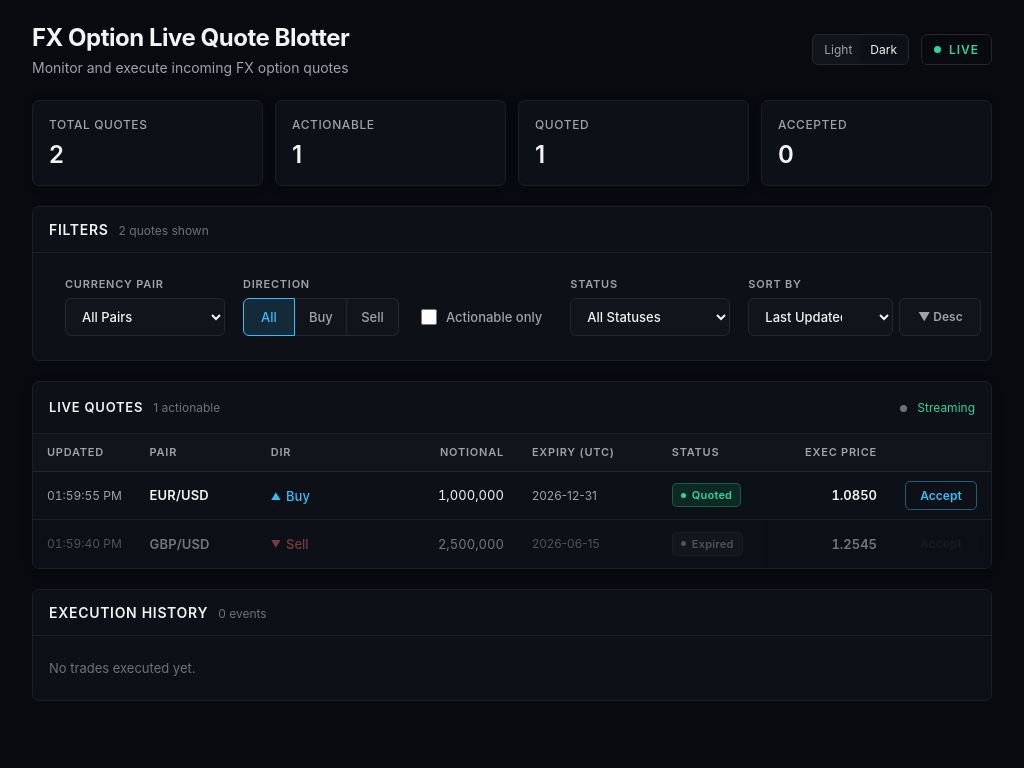
Test: BlotterApp Integration Tests › Accepting a tradeable quote opens the confirmation modal
This screenshot has width=1024, height=768.
Click the button "Accept" in the row of "01:59:55 PM" at (941, 495), box [905, 481, 977, 510]
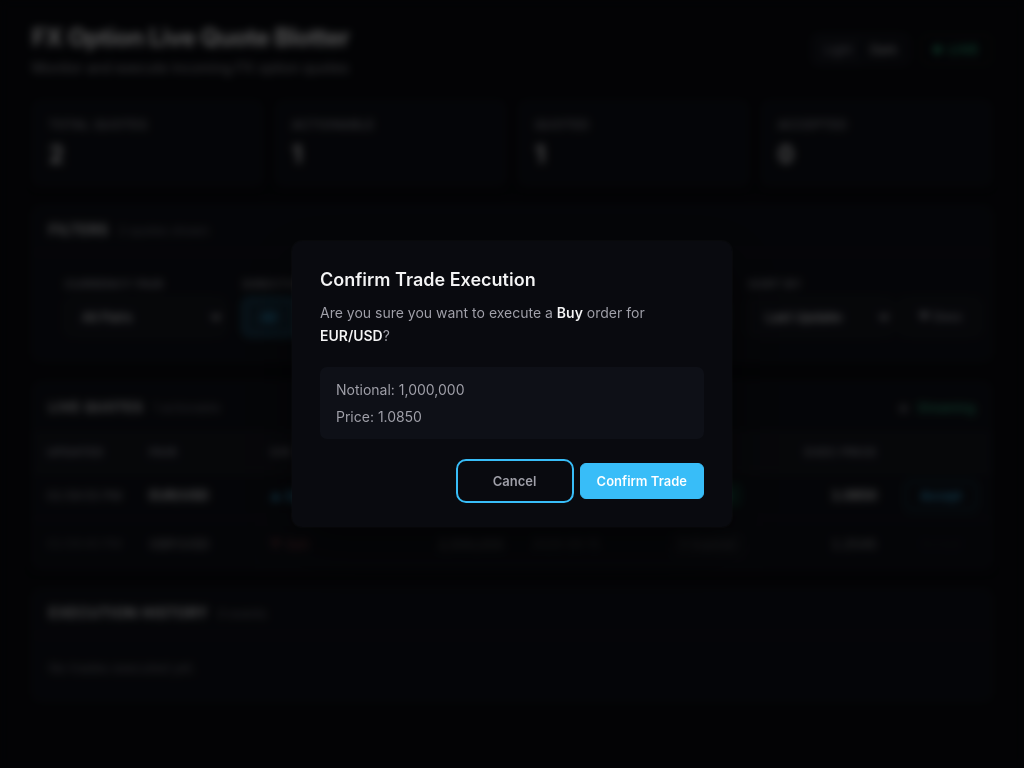
Now the heading "Confirm Trade Execution" is shown, box [320, 269, 536, 290]
